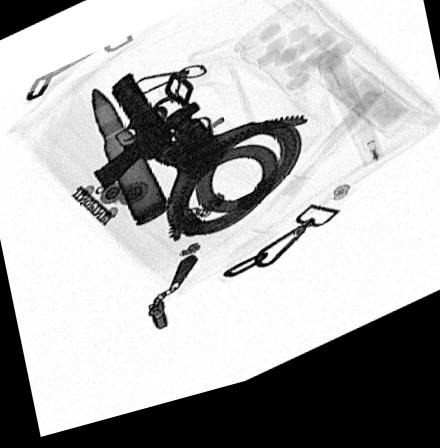Bullet: (90, 92, 167, 232)
Gun: (90, 77, 174, 195)
HandCuffs: (123, 112, 313, 252)
